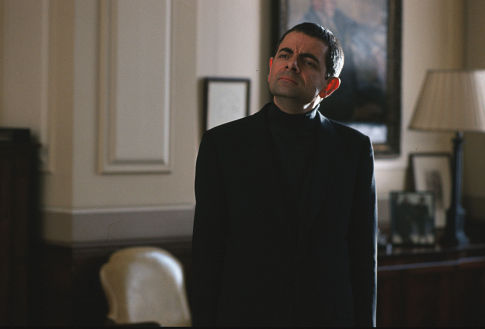42: (259, 22, 333, 109)
Coat: (173, 86, 403, 329)
Male: (259, 22, 333, 109)
